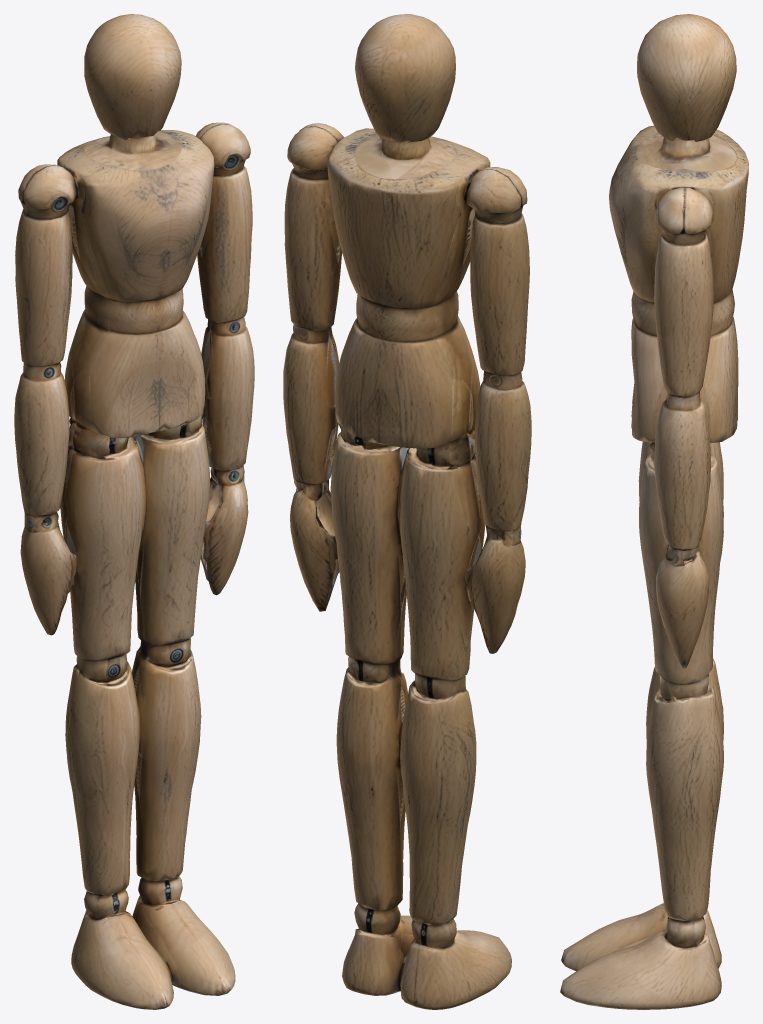
The model's file is VAR_DollRoom_Doll_HeadUp.fbx.
3 views of the same model, side by side, from view 1: azimuth 30°, elevation 25°; view 2: azimuth 150°, elevation 25°; view 3: azimuth 270°, elevation 25° (orthographic). The views are drawn at different scales.
Parts seen in each view (by area): view 1: texture_mapping; view 2: texture_mapping; view 3: texture_mapping.
Part boxes in pixels (x1,y1,x2,y2): texture_mapping: (14, 14, 254, 1009); texture_mapping: (283, 14, 531, 1009); texture_mapping: (560, 14, 748, 1009).
Size of the model in its own units: 0.2594 by 0.1782 by 1.
Materials: 1 (1 with a texture image).
